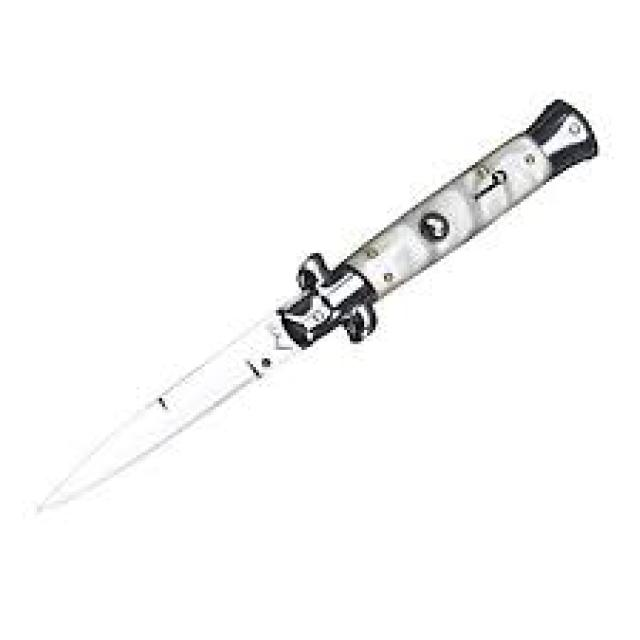knife: (21, 88, 608, 540)
